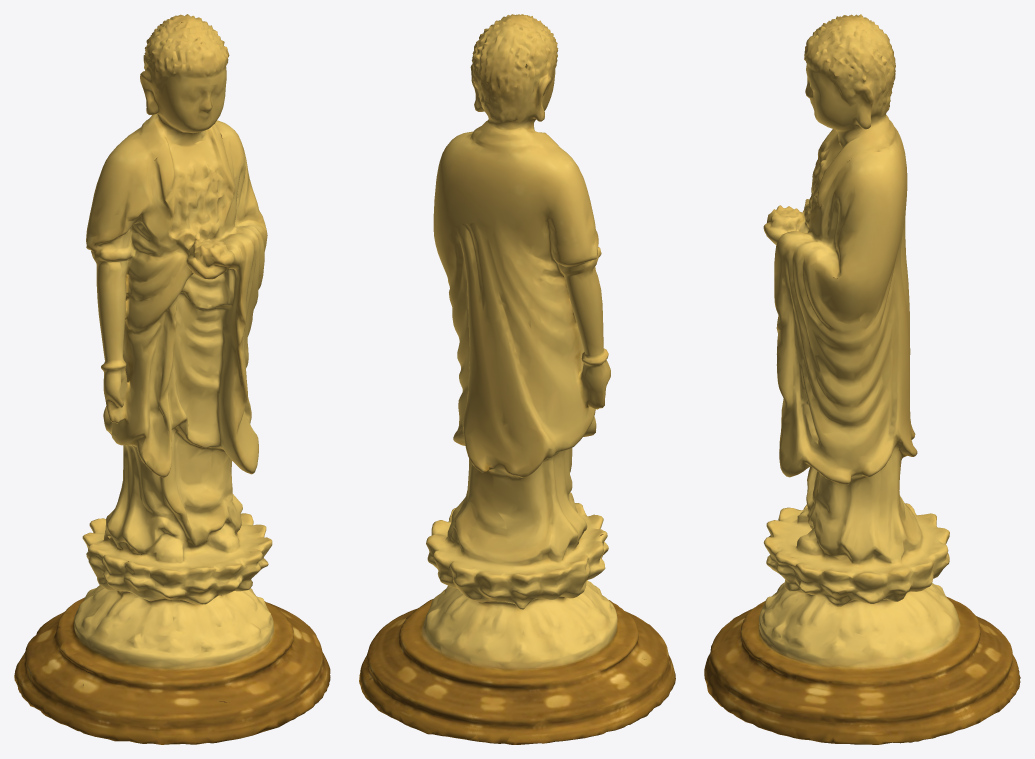
File: amitabha.glb
3 views of the same model, side by side, from view 1: azimuth 30°, elevation 25°; view 2: azimuth 150°, elevation 25°; view 3: azimuth 270°, elevation 25° (orthographic).
Parts seen in each view (by area): view 1: amitabha-low; view 2: amitabha-low; view 3: amitabha-low.
Boxes of the visible parts, bbox=[...] form: amitabha-low: bbox=[14, 14, 330, 744]; amitabha-low: bbox=[359, 14, 675, 744]; amitabha-low: bbox=[704, 14, 1020, 744].
Bounding box in the file's own units: 0.4333 × 1 × 0.4313.
1 material, 1 textured.
